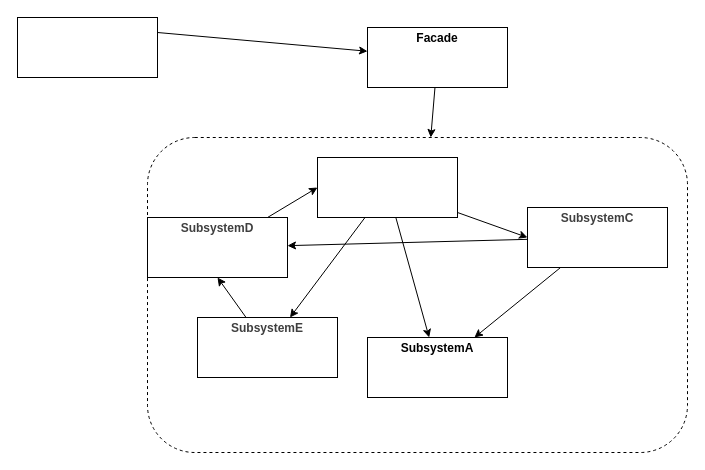
Some shapes in this 705 by 470 pixel diagram are drawn without their labels. Each missing label, with the centre of its shape:
"Client" goes at (x=87, y=47).
"SubsystemB" goes at (x=387, y=187).
